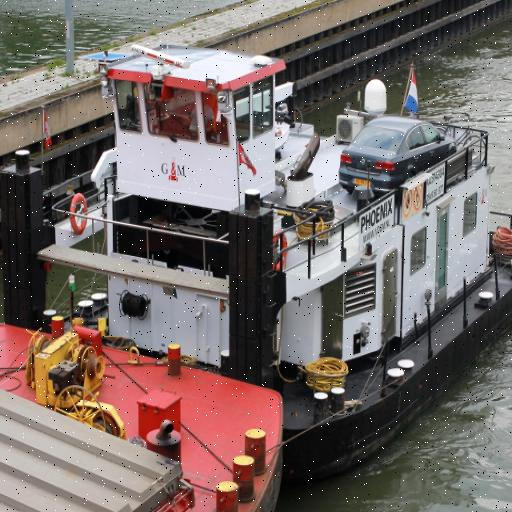tugboat: (1, 34, 512, 508)
